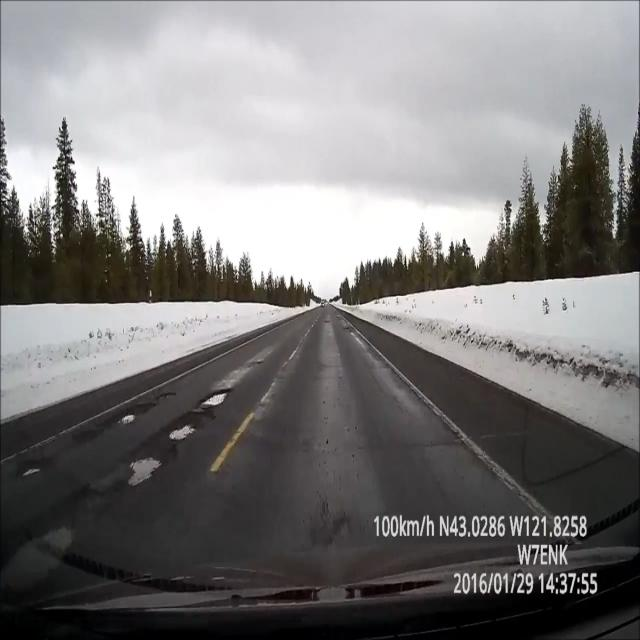Pothole: (117, 446, 174, 508), (199, 372, 235, 418), (164, 418, 204, 453)
